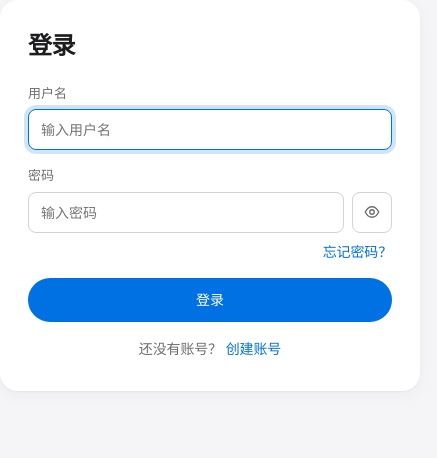
P02 登录页 › 空用户名或密码：就地显示字段错误并且不发请求
Click the button with test id "login-submit" at point(210, 300), box [28,278,392,322]
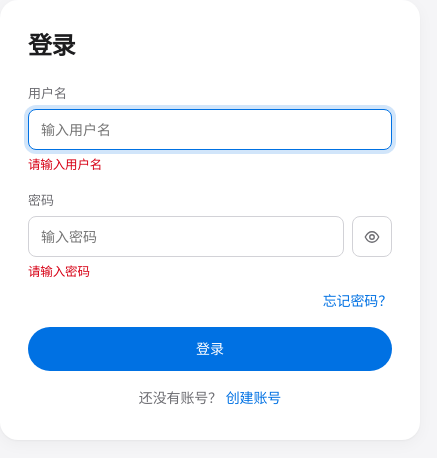
Result: the text "请输入用户名" is shown at [28,157,102,172]
Result: the text "请输入密码" is shown at [28,264,90,279]
